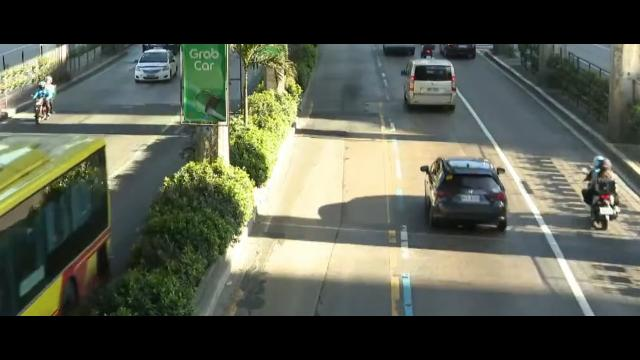bus: (0, 123, 131, 315)
car: (418, 156, 509, 231), (132, 49, 176, 85)
motorcycle: (580, 153, 622, 232), (30, 74, 58, 125), (420, 44, 436, 62)
van: (400, 59, 456, 110)
